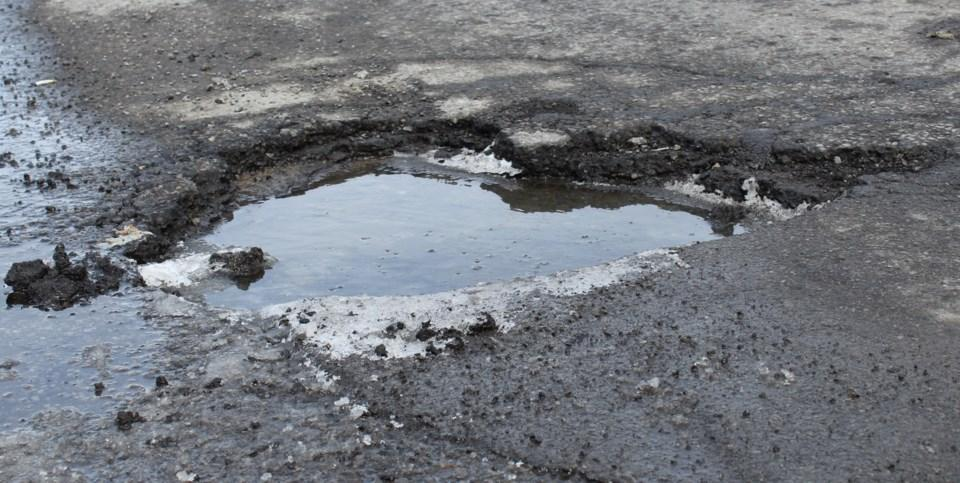Pothole: (0, 66, 876, 351)
